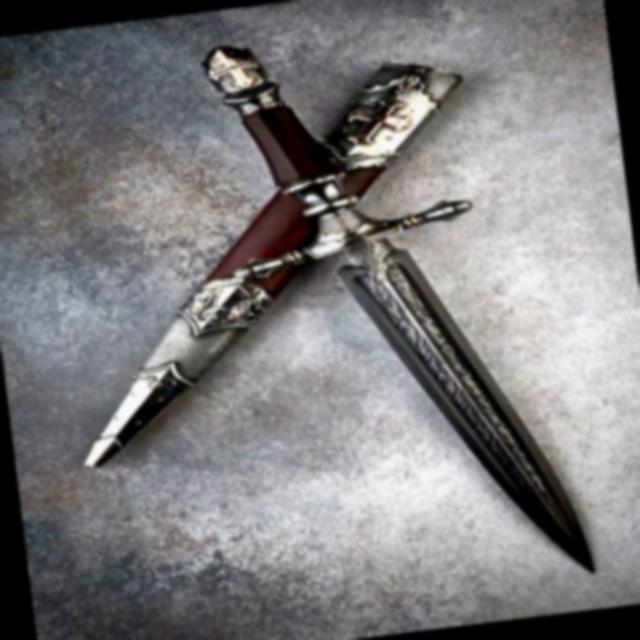short sword: (34, 3, 611, 640)
